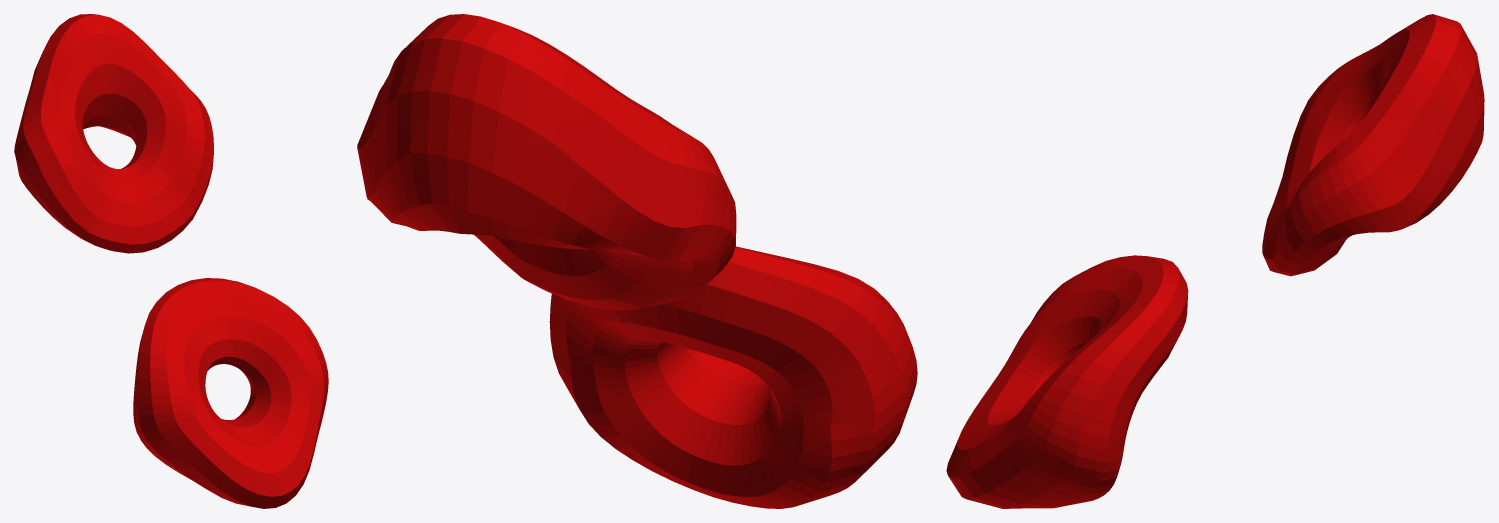
The model's file is (1)sex(r).obj.
The picture shows the model from 3 angles, left to right: view 1: azimuth 30°, elevation 25°; view 2: azimuth 150°, elevation 25°; view 3: azimuth 270°, elevation 25°; orthographic projection. The views are drawn at different scales.
Visible parts, largest first — view 1: red_Cylinder.009; view 2: red_Cylinder.009; view 3: red_Cylinder.009.
Part boxes in pixels (<box>): red_Cylinder.009: <box>14,14,328,508</box>; red_Cylinder.009: <box>357,14,917,508</box>; red_Cylinder.009: <box>946,14,1484,508</box>.
Size of the model in its own units: 0.4843 by 0.8831 by 0.9025.
